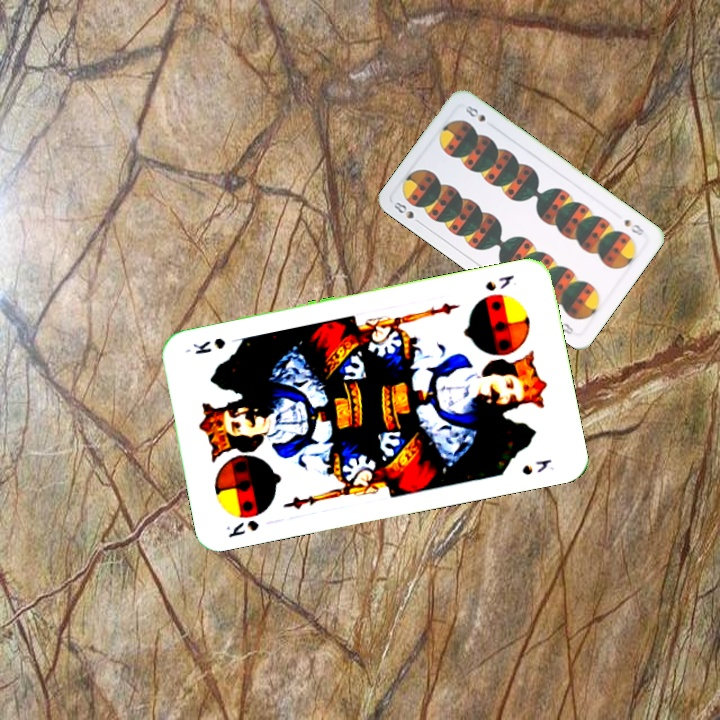S8: (390, 197, 425, 227), (620, 215, 650, 238)
SK: (222, 516, 261, 540), (481, 271, 517, 294)
